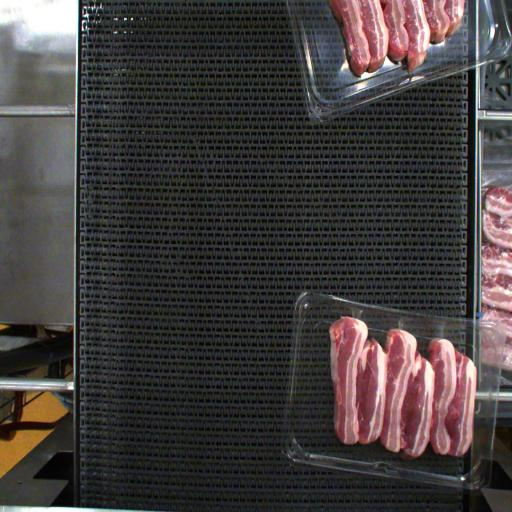packaging-error: (344, 296, 366, 326), (394, 312, 411, 340)
